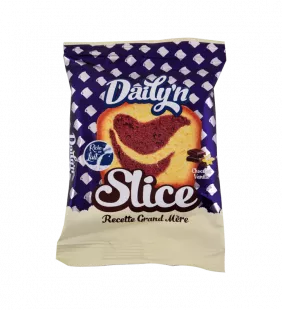DAILY'N: (45, 28, 237, 284)
